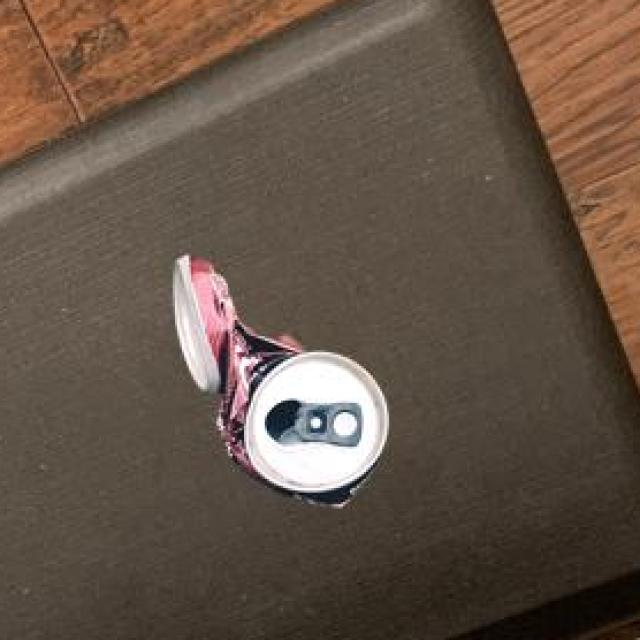logam: (169, 259, 383, 510)
